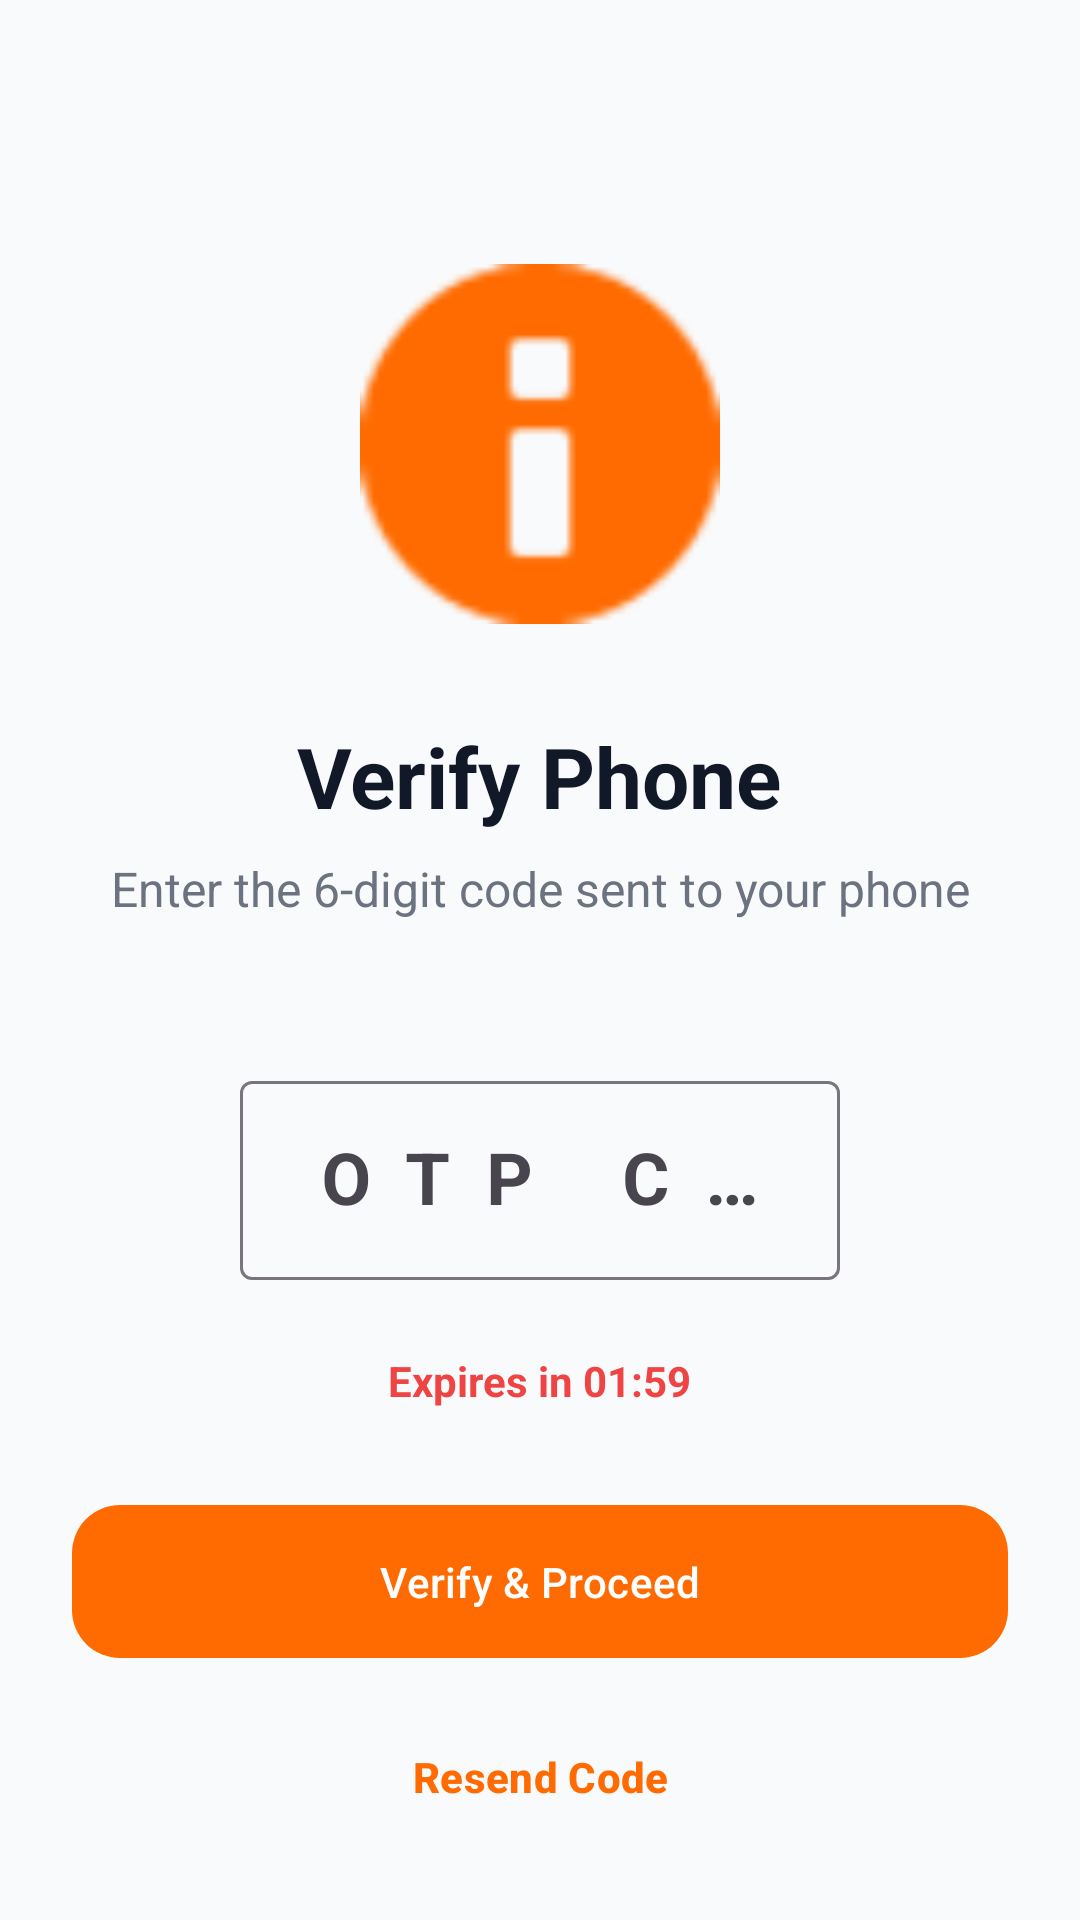

Locate icon controls on the screen. Image size 1080px×1920px, boxes as (x1, y1, x2, y2).
info: (360, 264, 720, 624)
